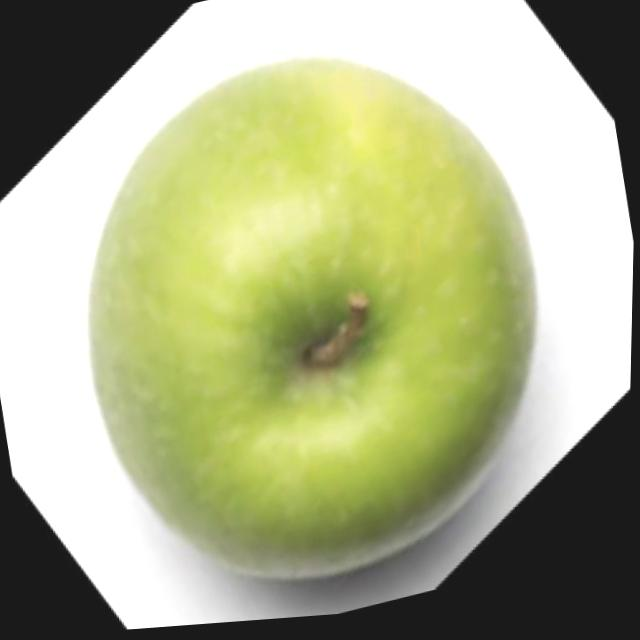Apple: (39, 4, 585, 636)
